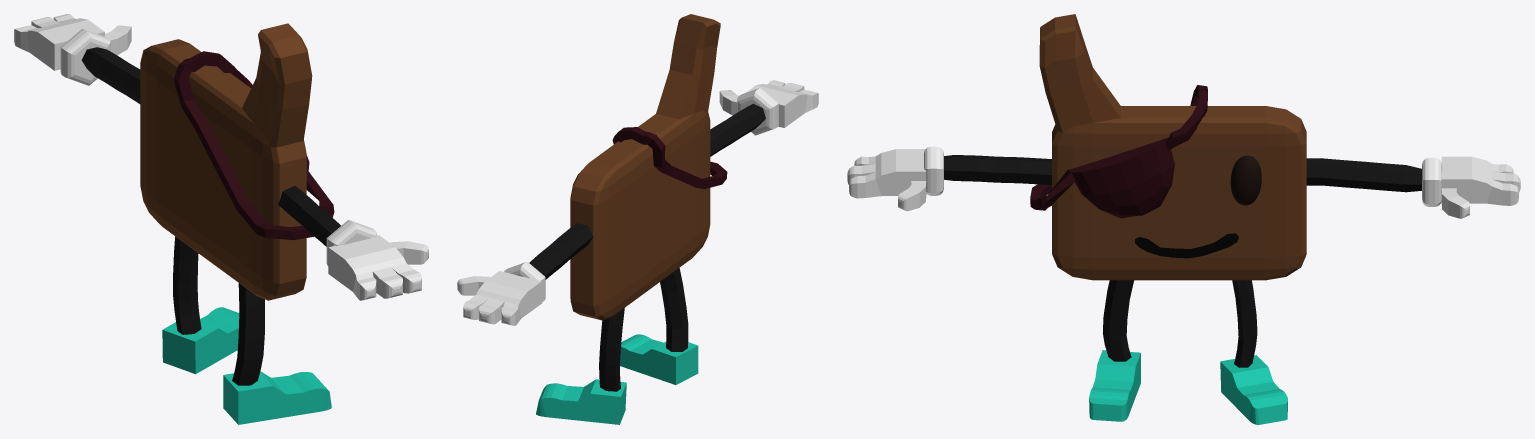
The model's file is porkchopPatchModel.fbx.
3 renders of one model, left to right at view 1: azimuth 30°, elevation 25°; view 2: azimuth 150°, elevation 25°; view 3: azimuth 270°, elevation 25°, orthographic. The views are drawn at different scales.
Parts seen in each view (by area): view 1: Body, hands, eypatch, Cube.002, Cube.001, LeftLeg, RightLeg, leftArm, rightArm, lefthandring, righhandring; view 2: Body, hands, Cube.001, Cube.002, eypatch, LeftLeg, RightLeg, leftArm, rightArm, righhandring, lefthandring; view 3: Body, hands, eypatch, leftArm, Cube.001, Cube.002, rightArm, LeftLeg, RightLeg, eye, mouth, lefthandring (+1 smaller).
Boxes of the visible parts, <box> form: Body: <box>140,23,312,300</box>; hands: <box>14,14,428,300</box>; eypatch: <box>173,51,334,240</box>; Cube.002: <box>223,371,331,424</box>; Cube.001: <box>162,307,239,374</box>; LeftLeg: <box>232,283,264,385</box>; RightLeg: <box>173,236,201,334</box>; leftArm: <box>81,47,140,103</box>; rightArm: <box>278,185,340,246</box>; lefthandring: <box>60,29,110,85</box>; righhandring: <box>326,220,376,265</box>; Body: <box>570,14,720,320</box>; hands: <box>457,80,818,325</box>; Cube.001: <box>536,379,626,424</box>; Cube.002: <box>620,334,698,384</box>; eypatch: <box>612,127,727,189</box>; LeftLeg: <box>660,268,688,351</box>; RightLeg: <box>599,308,624,391</box>; leftArm: <box>529,223,592,279</box>; rightArm: <box>710,103,765,156</box>; righhandring: <box>737,87,778,135</box>; lefthandring: <box>504,261,545,302</box>; Body: <box>1039,14,1306,280</box>; hands: <box>847,149,1520,218</box>; eypatch: <box>1030,85,1207,218</box>; leftArm: <box>1306,158,1421,192</box>; Cube.001: <box>1220,355,1287,424</box>; Cube.002: <box>1089,350,1140,421</box>; rightArm: <box>944,155,1051,184</box>; LeftLeg: <box>1103,280,1133,361</box>; RightLeg: <box>1232,280,1257,367</box>; eye: <box>1230,155,1261,205</box>; mouth: <box>1135,233,1238,258</box>; lefthandring: <box>1422,157,1442,206</box>.
Size of the model in its own units: 134 by 458 by 752.
